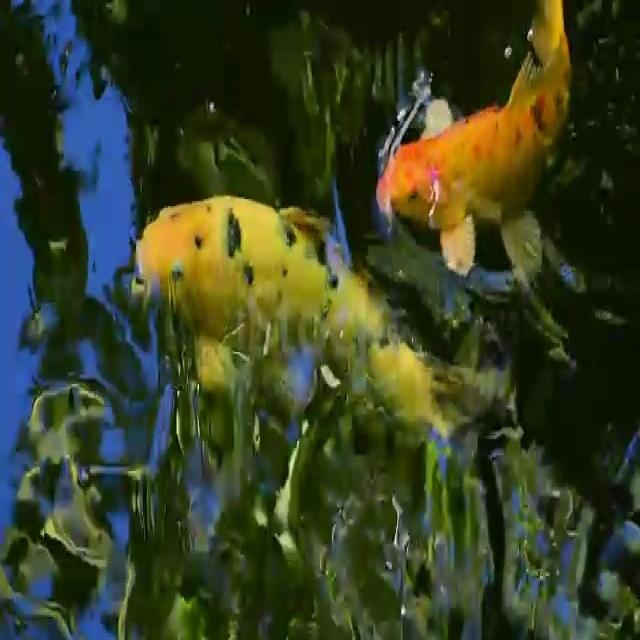fish: (125, 197, 476, 513), (362, 0, 620, 278)
